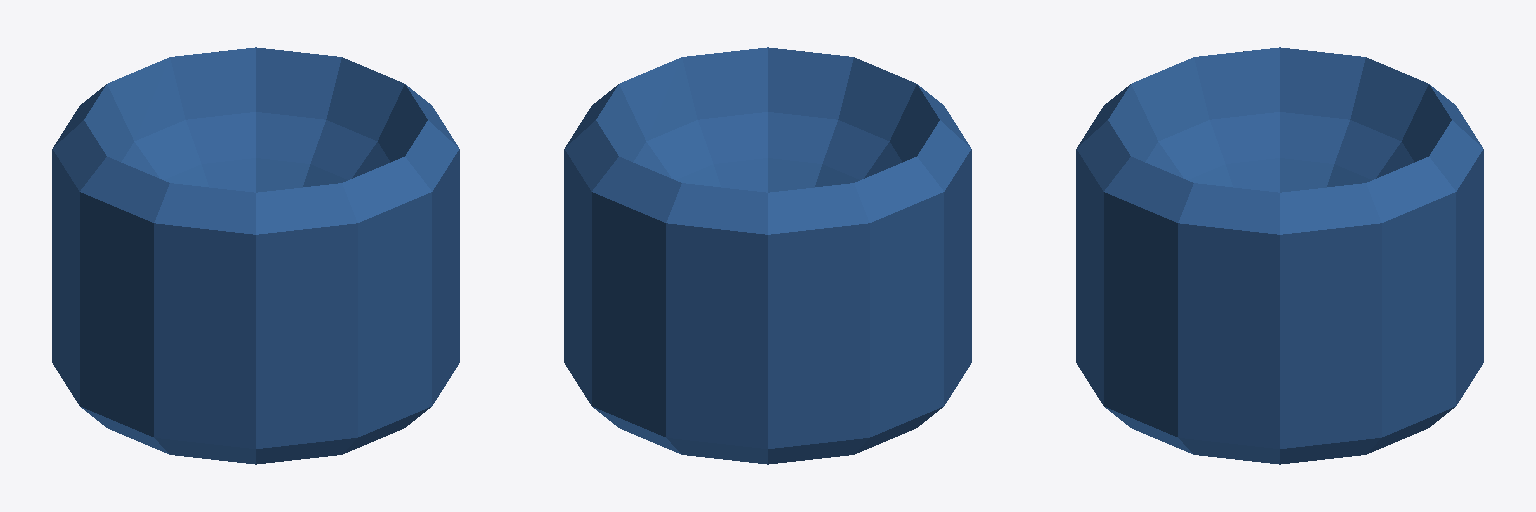
File: Wheel2.OBJ
The picture shows the model from 3 angles: view 1: azimuth 30°, elevation 25°; view 2: azimuth 150°, elevation 25°; view 3: azimuth 270°, elevation 25°; orthographic projection.
Visible parts, largest first — view 1: Wheel2_Wheel1.001; view 2: Wheel2_Wheel1.001; view 3: Wheel2_Wheel1.001.
Boxes of the visible parts, x1=… form: Wheel2_Wheel1.001: x1=52, y1=47, x2=459, y2=464; Wheel2_Wheel1.001: x1=564, y1=47, x2=971, y2=464; Wheel2_Wheel1.001: x1=1076, y1=47, x2=1483, y2=464.
Size of the model in its own units: 0.5092 by 0.375 by 0.5092.